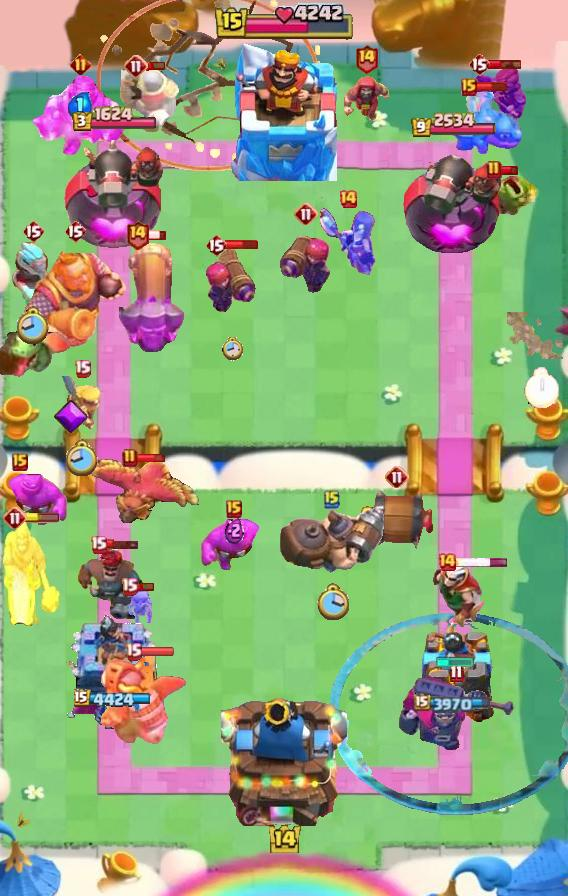arrows: (61, 376, 102, 430)
bowler: (341, 73, 391, 129)
clock: (213, 3, 355, 43)
electro-spirit: (67, 93, 92, 120), (225, 516, 244, 544)
electro-wizard: (0, 314, 72, 380)
elixir: (524, 368, 559, 409), (17, 306, 51, 346), (315, 582, 349, 622), (65, 439, 99, 478), (222, 337, 243, 361)
emote: (456, 556, 509, 567), (487, 58, 523, 70), (104, 538, 140, 550), (139, 647, 175, 658), (474, 80, 508, 91), (225, 238, 259, 249), (24, 513, 60, 523), (136, 453, 168, 463), (147, 229, 167, 241), (146, 61, 166, 72), (135, 581, 155, 592), (500, 164, 519, 175)
firecracker: (121, 62, 180, 128)
fisherman: (508, 313, 568, 359)
flying-machine: (477, 173, 537, 227)
freeze: (0, 517, 62, 629)
furnace: (119, 240, 187, 352)
giant-skeleton: (22, 247, 128, 349)
goblin: (125, 586, 157, 628)
graveyard: (440, 92, 524, 156)
guard: (96, 0, 320, 171)
ice-spirit: (435, 655, 477, 667)
inferno-tower: (396, 675, 516, 753)
king-tower: (221, 690, 347, 826), (231, 43, 337, 181)
mega-minion: (278, 220, 334, 296), (204, 245, 260, 317)
mortar: (11, 241, 55, 303)
mother-witch: (79, 457, 209, 531)
night-witch: (97, 656, 191, 748)
pad_0: (330, 612, 568, 816)
phoenix-small: (75, 544, 145, 622)
queen-tower: (65, 614, 162, 730), (411, 619, 495, 731)
rascal-boy: (317, 206, 379, 278)
royal-guardian: (31, 64, 129, 158)
selected: (411, 112, 498, 140), (70, 107, 157, 134), (73, 689, 154, 711), (414, 693, 494, 713)
skeleton-king: (429, 561, 493, 629)
skeleton-king-skill: (53, 399, 89, 435)
tesla-evolution: (464, 66, 528, 122)
text: (353, 42, 378, 73), (126, 219, 151, 250), (124, 54, 148, 78), (294, 202, 318, 226), (385, 465, 409, 489), (3, 506, 27, 530), (468, 52, 490, 76), (64, 219, 86, 243), (22, 219, 44, 243), (205, 233, 227, 257), (69, 54, 91, 75), (338, 189, 358, 209), (437, 552, 457, 572), (73, 358, 91, 377), (125, 643, 142, 662), (486, 160, 502, 180), (122, 448, 138, 468), (324, 489, 340, 509), (89, 535, 106, 553), (121, 577, 138, 595), (461, 78, 477, 96), (12, 453, 28, 471), (226, 500, 242, 518), (449, 665, 463, 683)
the-log: (357, 489, 437, 549)
tornado: (0, 471, 68, 527), (200, 516, 268, 572)
tower-bar: (60, 132, 167, 256), (403, 138, 503, 256)
wizard: (276, 505, 388, 575)
